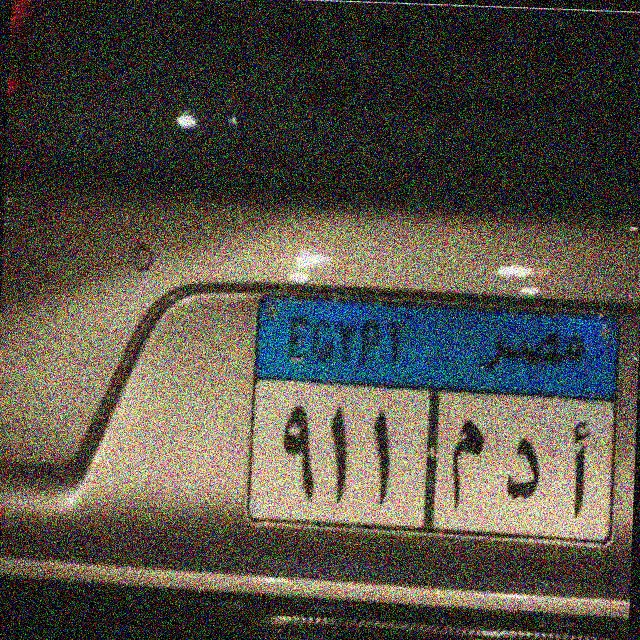License Plate: (242, 284, 627, 557)
